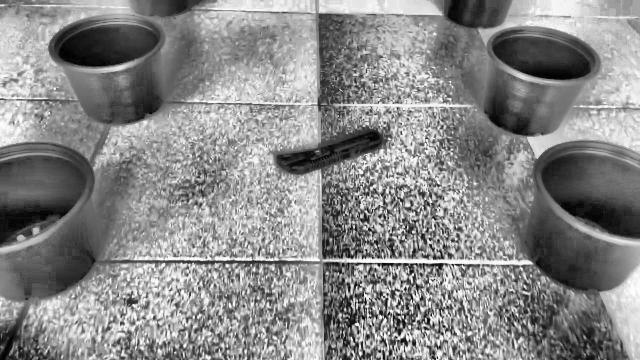pot: (523, 140, 640, 292), (0, 142, 102, 302), (482, 26, 602, 138), (48, 14, 166, 126)
